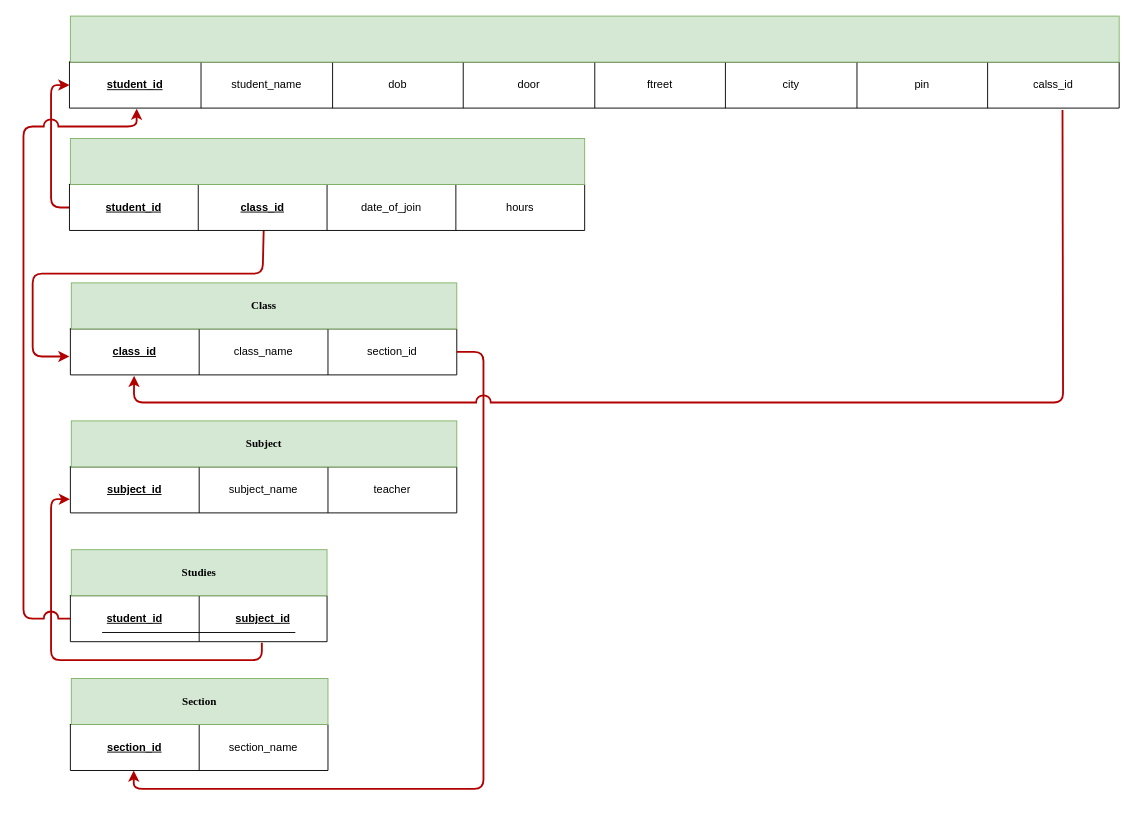
The diagram is 1135 pixels wide and 813 high, and some of its shapes have lost their labels. The centre of each missing label's shape, as x and y in pixels:
"Attents" belongs at pixel 327 161.
"Studenet" belongs at pixel 594 38.
